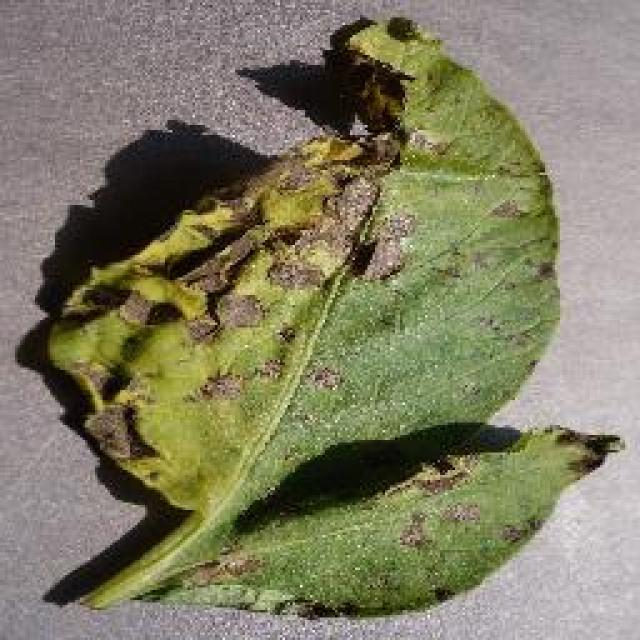early_blight: (42, 10, 622, 622)
